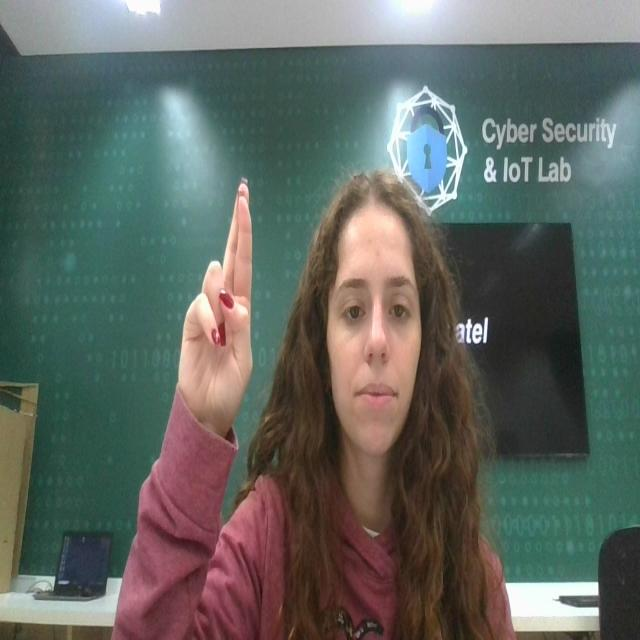R: (180, 160, 256, 433)
